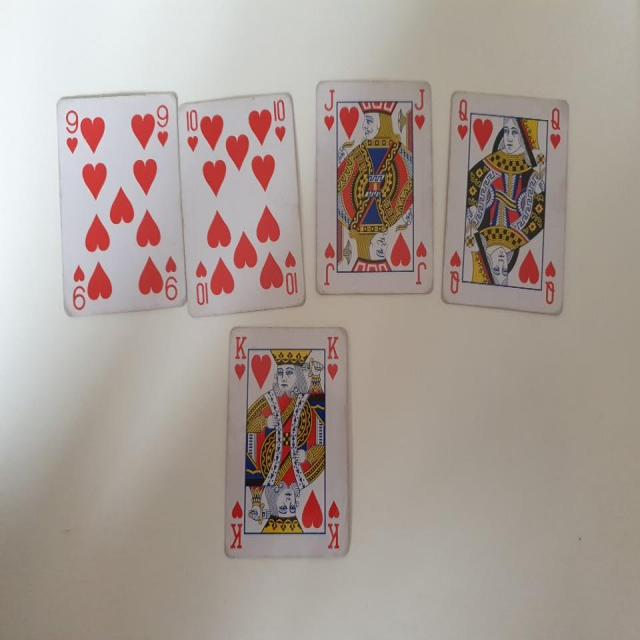10 Hearts: (174, 91, 308, 321)
9 Hearts: (51, 86, 186, 321)
J Hearts: (311, 69, 438, 298)
K Hearts: (220, 323, 354, 561)
Q Hearts: (438, 76, 575, 321)
